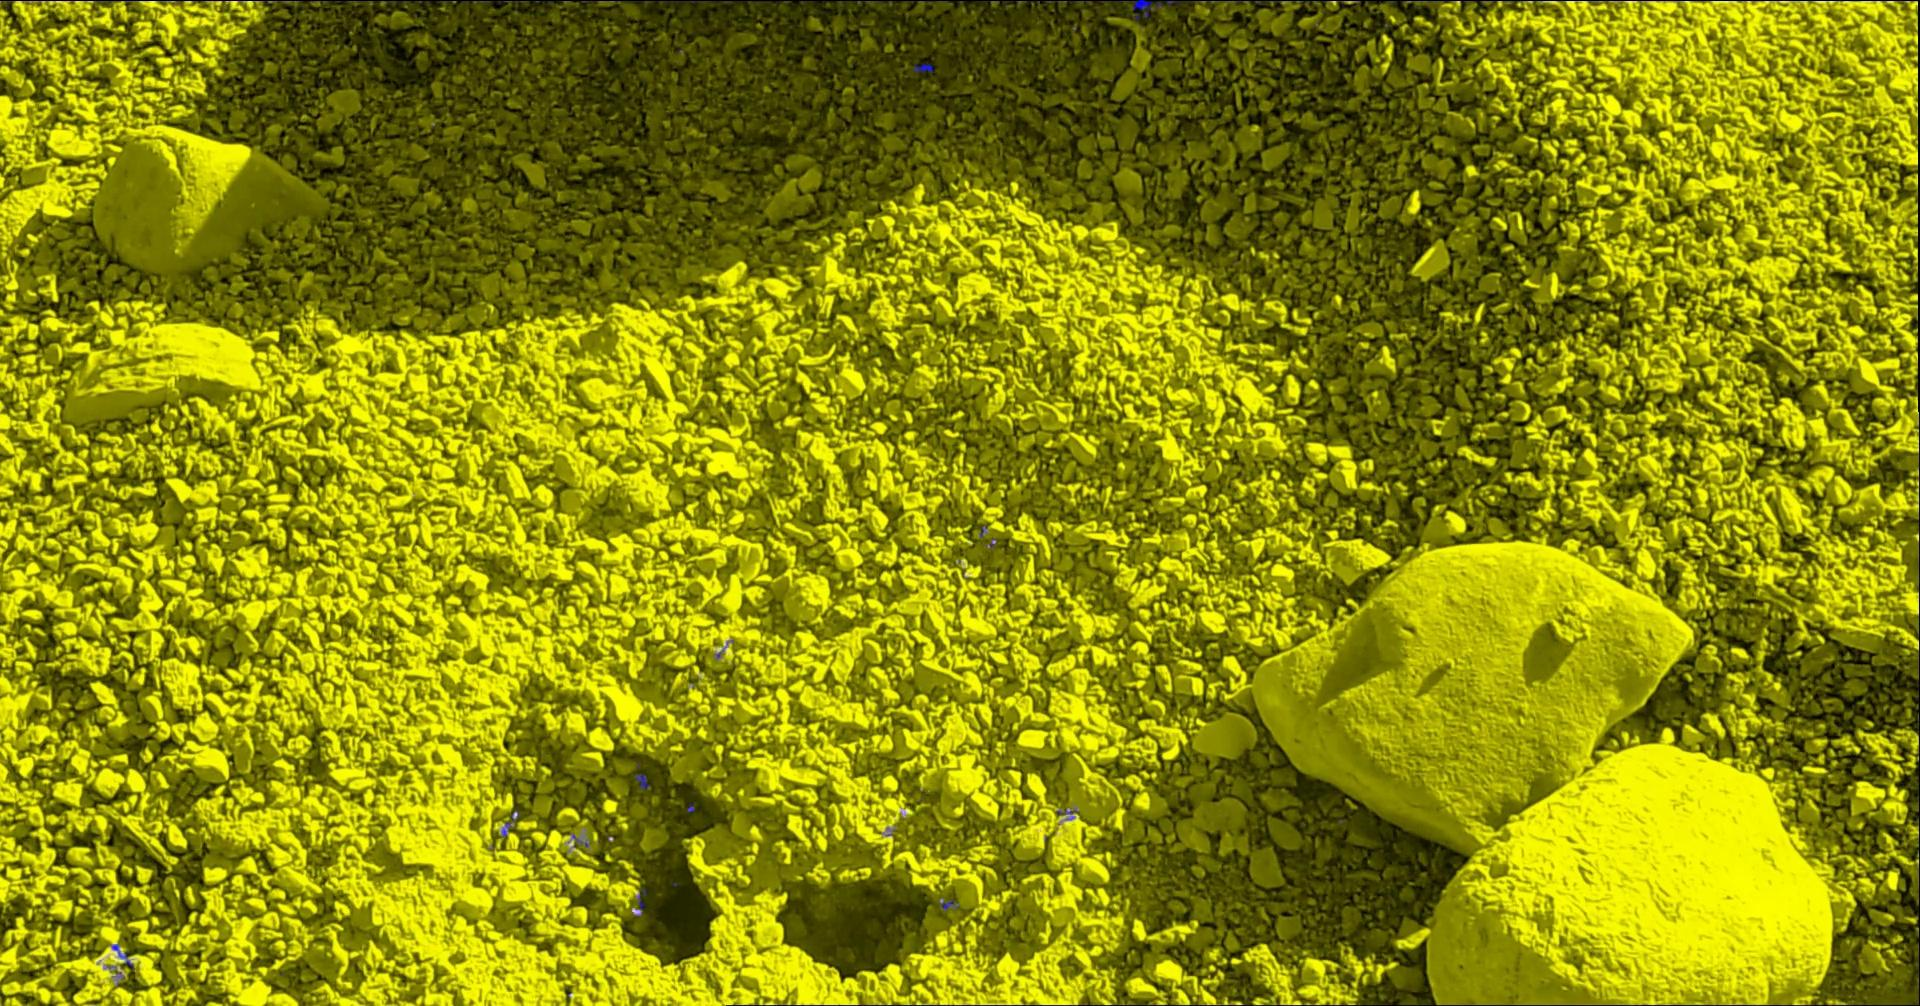ant: (1123, 0, 1163, 18), (113, 944, 135, 967), (636, 774, 651, 788), (916, 64, 935, 72), (943, 899, 960, 909), (1194, 0, 1251, 1)
